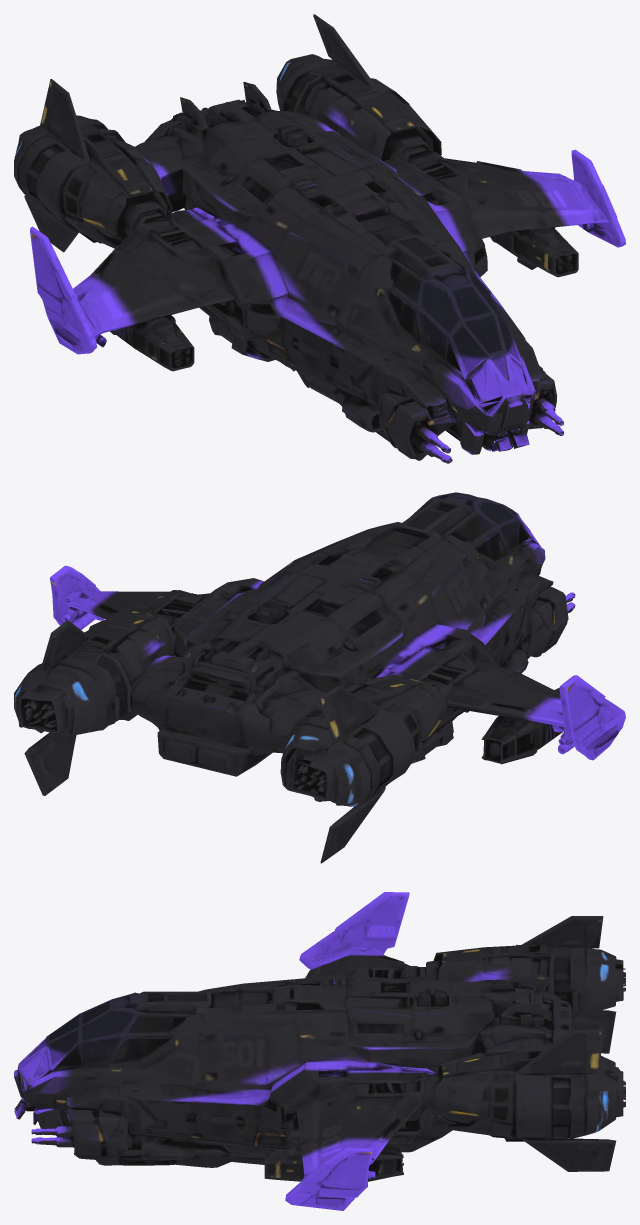
The model's file is eris-starter.glb.
3 views of the same model, one above another, from view 1: azimuth 30°, elevation 25°; view 2: azimuth 150°, elevation 25°; view 3: azimuth 270°, elevation 25° (orthographic). The views are drawn at different scales.
Parts seen in each view (by area): view 1: Hull_LOD0; view 2: Hull_LOD0; view 3: Hull_LOD0.
Part boxes in pixels (left/top/right/bottom): Hull_LOD0: left=14, top=14, right=625, bottom=463; Hull_LOD0: left=14, top=492, right=625, bottom=863; Hull_LOD0: left=14, top=892, right=625, bottom=1210.
Bounding box in the file's own units: 7.41 × 2.61 × 8.33.
1 material, 1 textured.
